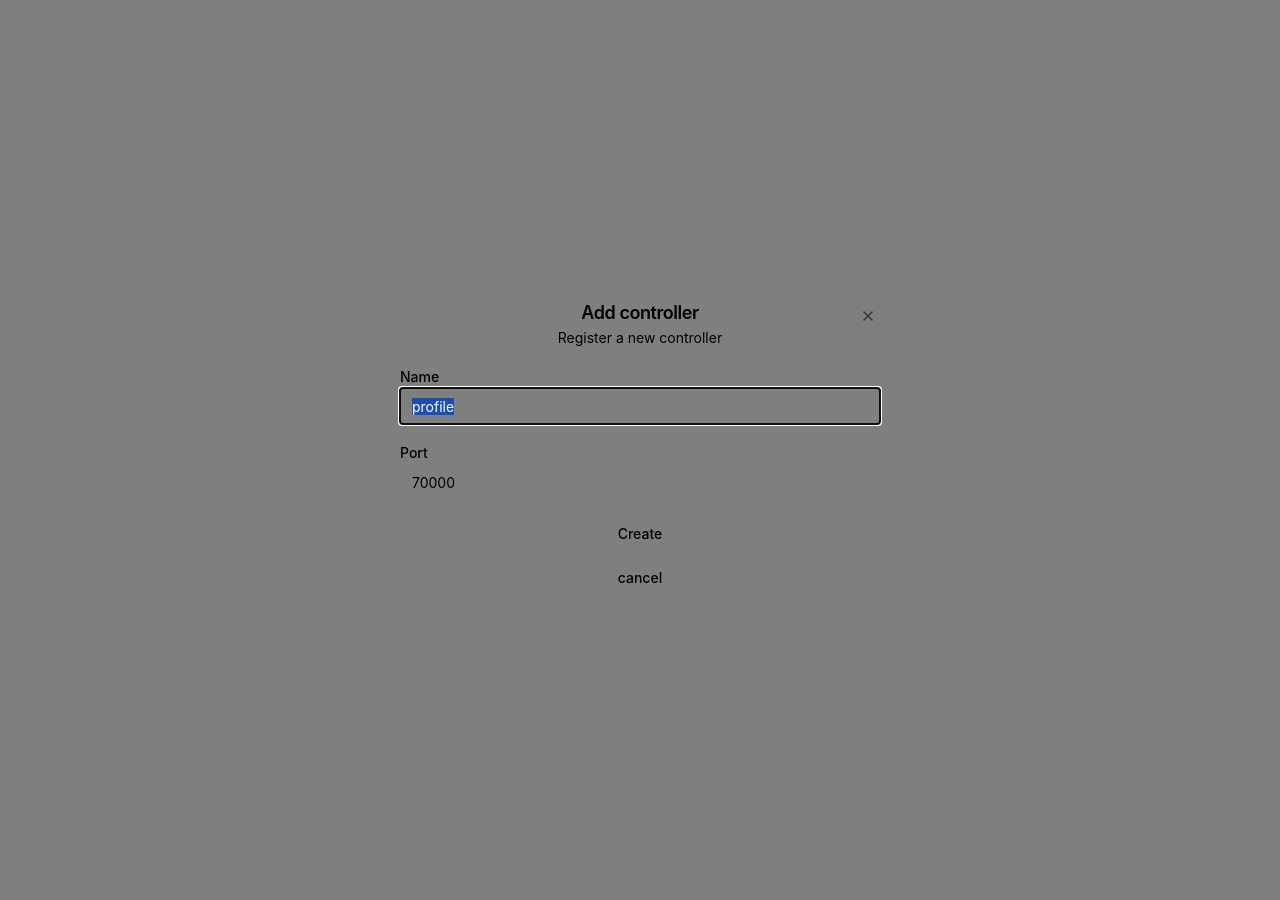
FormDialog › preserves field details from a standardized validation response
Click the button "Create" at [640, 534], box [400,516,880,552]
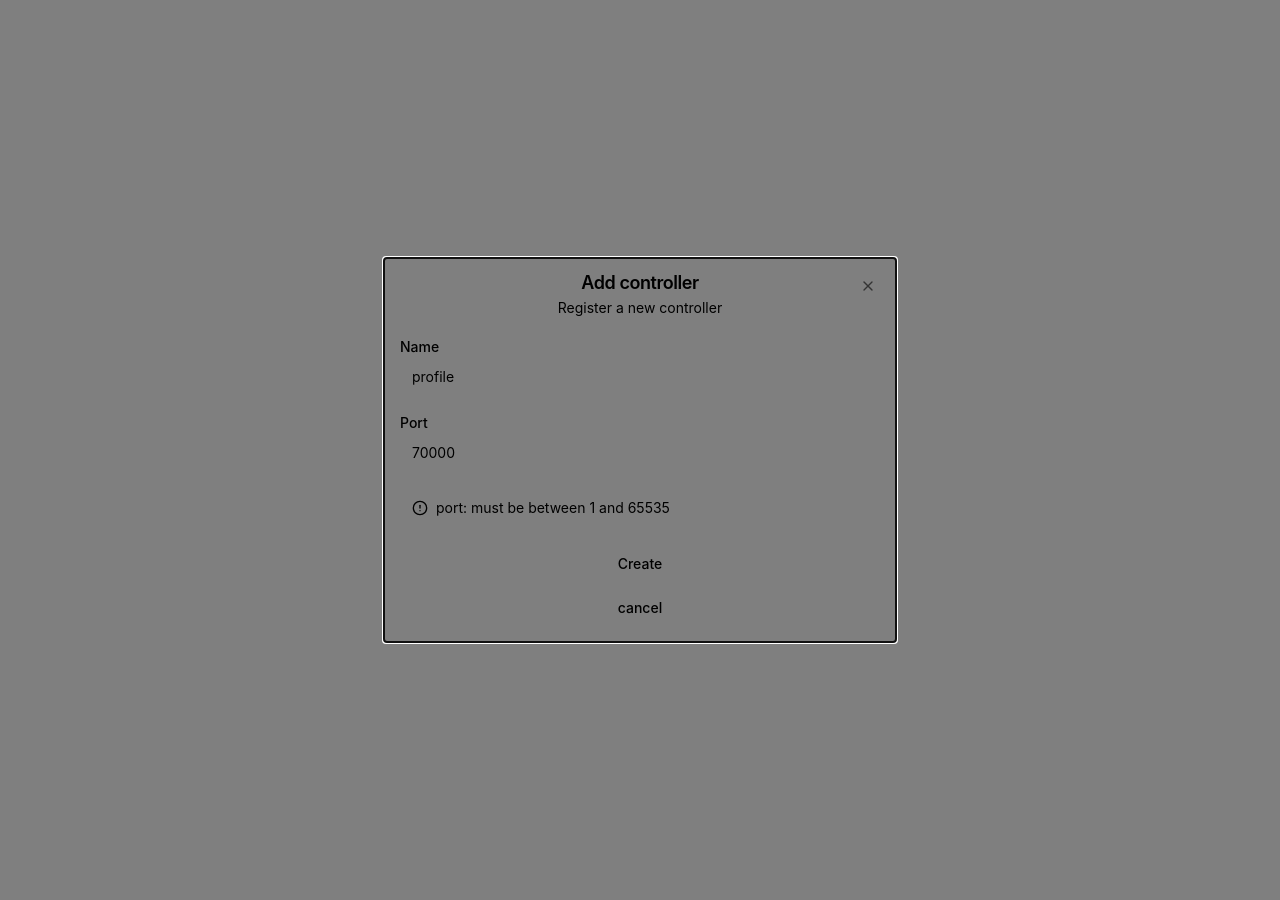
expect the text "port: must be between 1 and 65535" is shown: met, box [436,498,670,518]
